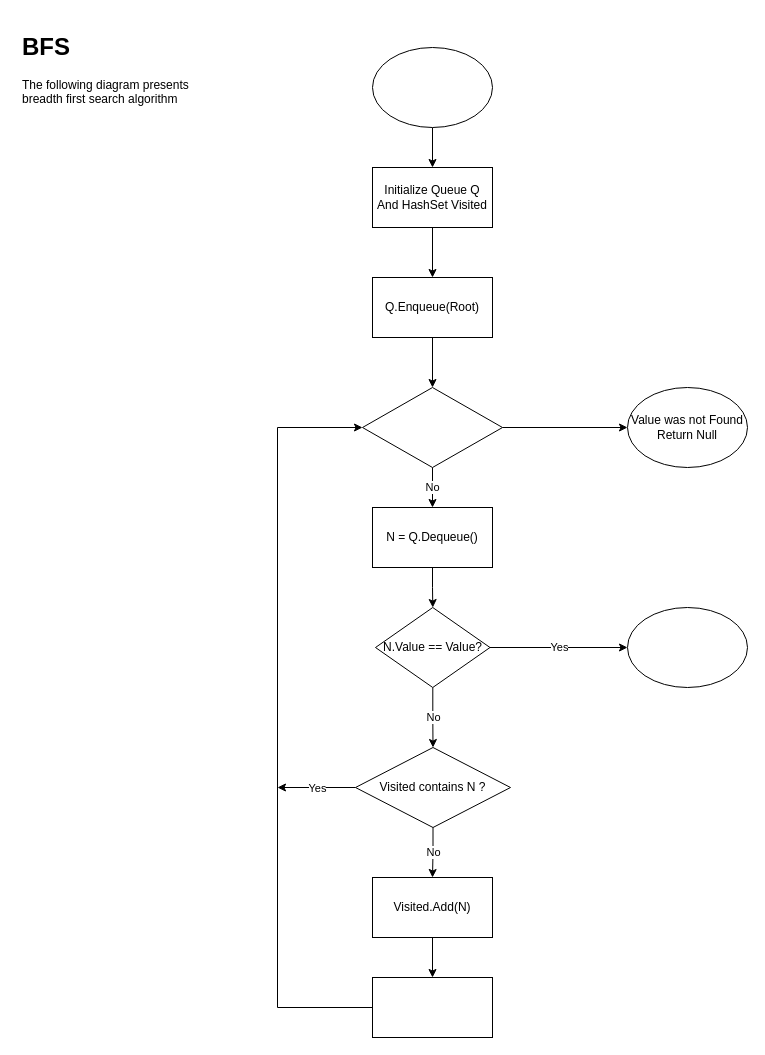
Some shapes in this 765 by 1055 pixel diagram are drawn without their labels. Each missing label, with the box of its shape:
Enqueue all N.Neighbours in Q: (372, 976, 492, 1038)
Is Q Empty?: (362, 386, 502, 468)
Return N: (626, 606, 748, 688)
Start (Graph Root, T Value): (372, 46, 492, 128)
